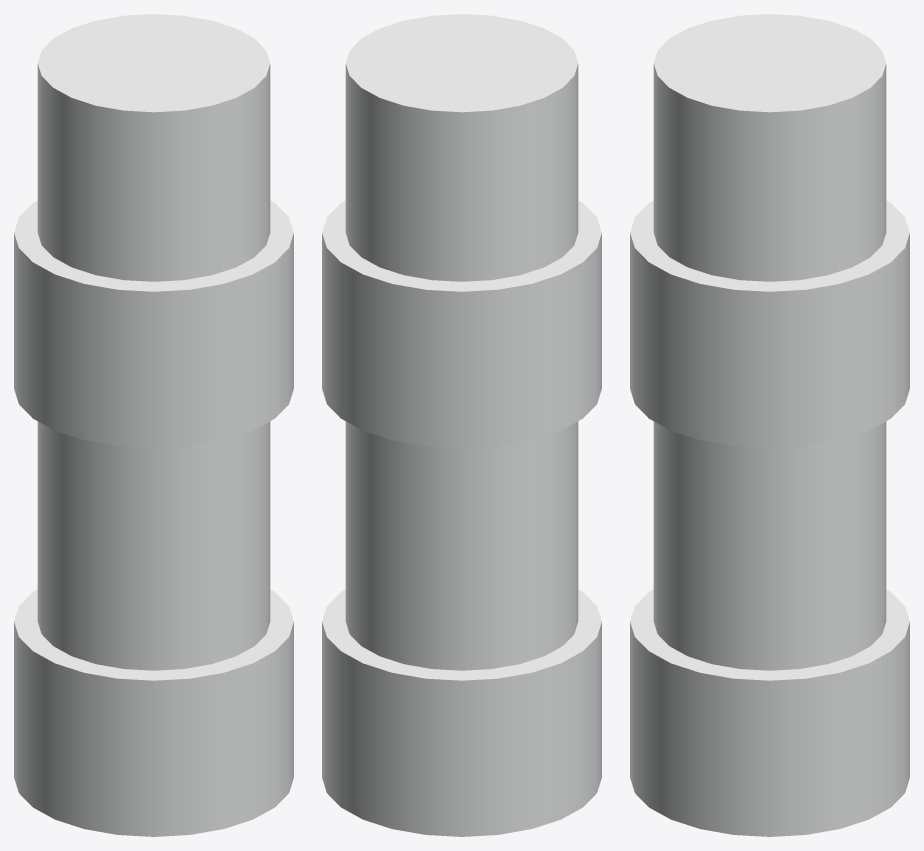
File: Gate.fbx
The picture shows the model from 3 angles, left to right: view 1: azimuth 30°, elevation 25°; view 2: azimuth 150°, elevation 25°; view 3: azimuth 270°, elevation 25°; orthographic projection.
Parts seen in each view (by area): view 1: Gate, Gate.Rings; view 2: Gate, Gate.Rings; view 3: Gate, Gate.Rings.
Boxes of the visible parts, x1,y1,x2,y2 form: Gate: [37, 14, 270, 670]; Gate.Rings: [14, 200, 293, 836]; Gate: [345, 14, 578, 670]; Gate.Rings: [322, 200, 601, 836]; Gate: [653, 14, 886, 670]; Gate.Rings: [630, 200, 909, 836].
Size of the model in its own units: 0.6014 by 1.7 by 0.6014.
